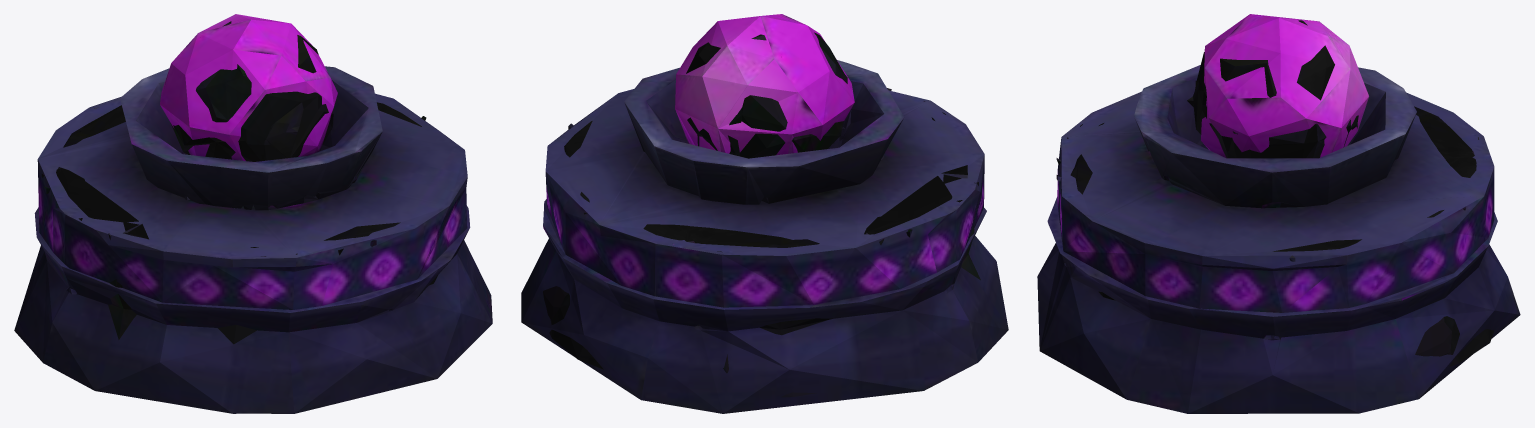
Rendered from d_abimes_autel.glb.
3 views of the same model, side by side, from view 1: azimuth 30°, elevation 25°; view 2: azimuth 150°, elevation 25°; view 3: azimuth 270°, elevation 25° (orthographic). The views are drawn at different scales.
Parts seen in each view (by area): view 1: geometry_0; view 2: geometry_0; view 3: geometry_0.
Boxes of the visible parts, x1=… form: geometry_0: x1=14, y1=14, x2=492, y2=413; geometry_0: x1=521, y1=14, x2=1008, y2=413; geometry_0: x1=1037, y1=14, x2=1520, y2=413.
Size of the model in its own units: 0.9795 by 0.6651 by 0.9758.
1 material, 1 textured.
